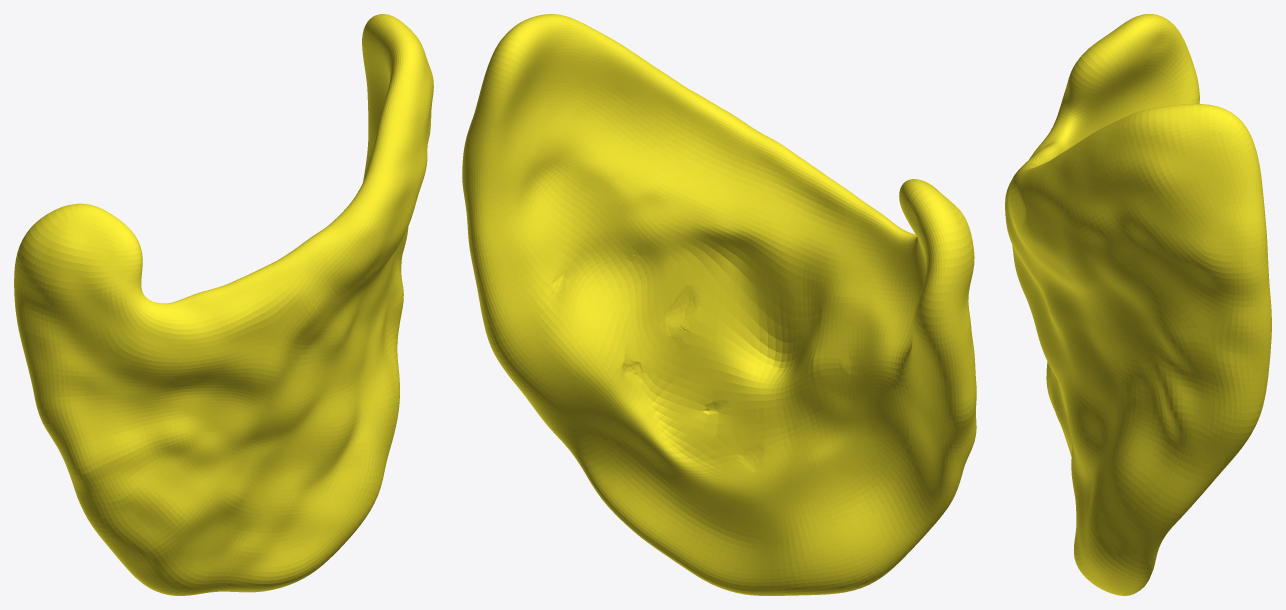
Rendered from omentum.glb.
3 views of the same model, side by side, from view 1: azimuth 30°, elevation 25°; view 2: azimuth 150°, elevation 25°; view 3: azimuth 270°, elevation 25° (orthographic). The views are drawn at different scales.
Parts seen in each view (by area): view 1: VH_M_omentum; view 2: VH_M_omentum; view 3: VH_M_omentum.
Boxes of the visible parts, box(x1,y1,x2,y2) form: VH_M_omentum: box(14, 14, 433, 595); VH_M_omentum: box(462, 14, 976, 595); VH_M_omentum: box(1005, 14, 1271, 595).
Size of the model in its own units: 0.2857 by 0.3265 by 0.1397.
